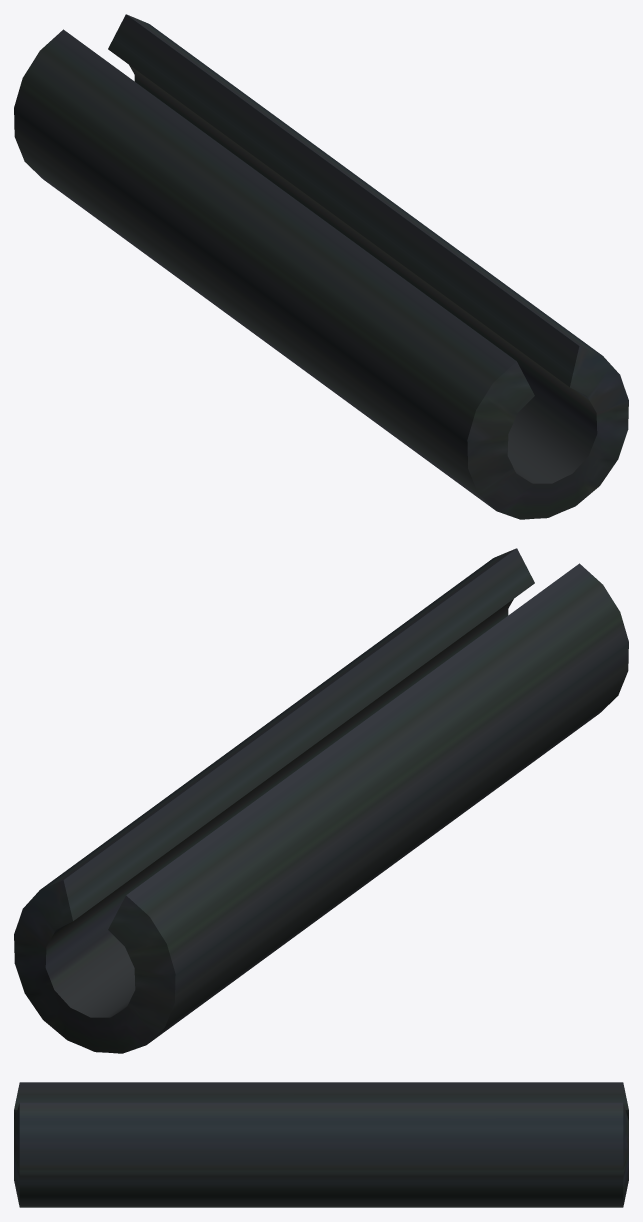
The model's file is Spring_Pin3.dae.
3 renders of one model, top to bottom at view 1: azimuth 30°, elevation 25°; view 2: azimuth 150°, elevation 25°; view 3: azimuth 270°, elevation 25°, orthographic. The views are drawn at different scales.
Visible parts, largest first — view 1: Spring_Pin3; view 2: Spring_Pin3; view 3: Spring_Pin3.
Part boxes in pixels (x1,y1,x2,y2): Spring_Pin3: (14,14,628,519); Spring_Pin3: (14,548,628,1053); Spring_Pin3: (14,1082,628,1207).
Size of the model in its own units: 0.00311 by 0.0154 by 0.00303.
Materials: 1 (1 with a texture image).
